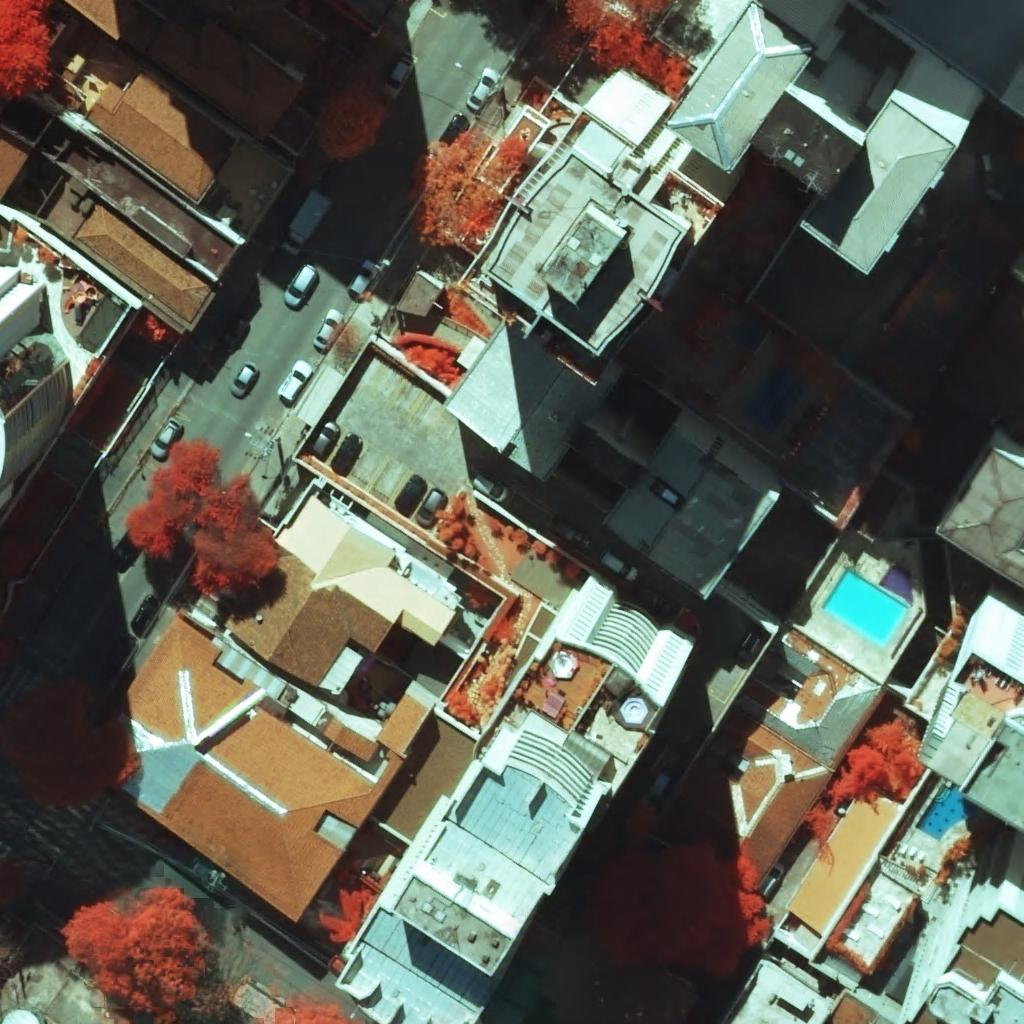pool: (821, 569, 908, 647), (916, 784, 977, 840)
